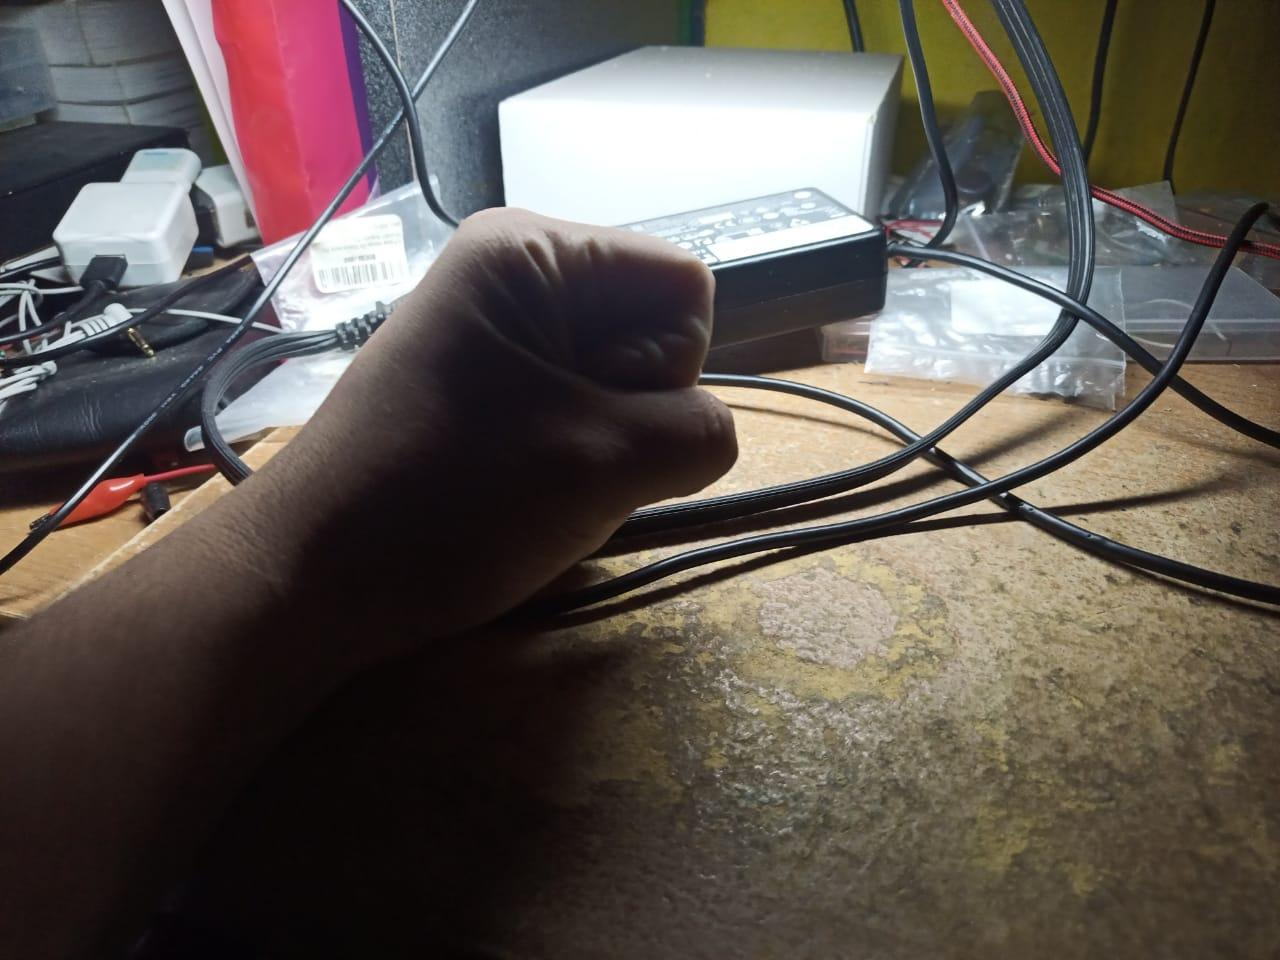Stone: (0, 209, 740, 960)
